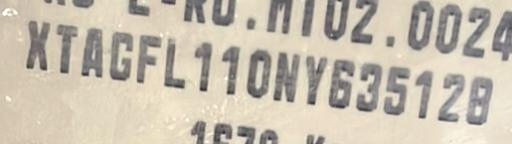letter: (326, 57, 356, 111), (464, 74, 494, 125), (25, 19, 53, 72), (354, 58, 382, 111), (272, 50, 300, 102), (382, 64, 410, 115), (107, 29, 133, 82), (245, 47, 271, 99), (136, 33, 162, 84), (438, 71, 464, 121), (304, 53, 328, 107), (162, 36, 186, 89), (55, 22, 79, 74), (80, 25, 104, 77), (412, 68, 434, 120), (192, 40, 214, 90), (218, 44, 240, 94)
